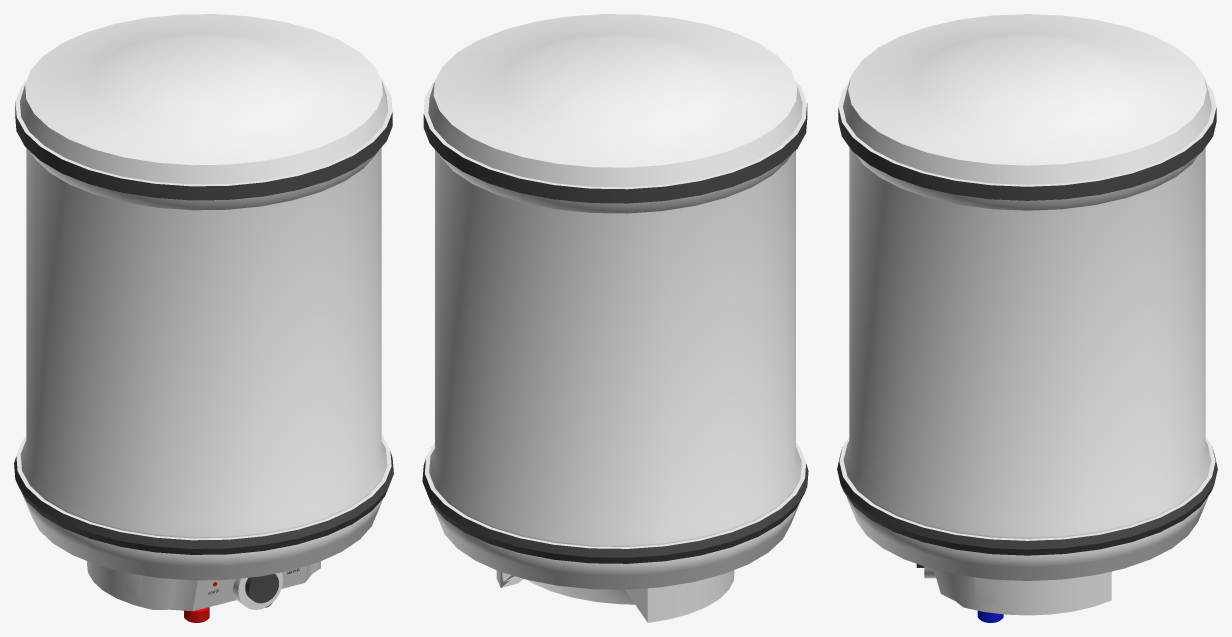
Rendered from geyser.glb.
3 views of the same model, side by side, from view 1: azimuth 30°, elevation 25°; view 2: azimuth 150°, elevation 25°; view 3: azimuth 270°, elevation 25° (orthographic).
Visible parts, largest first — view 1: Cylinder_Material_0, Cylinder_Material.005_0, Cylinder.007_Material_0, Cylinder.002_Material.005_0, Cylinder.003__0; view 2: Cylinder_Material_0, Cylinder_Material.005_0, Cylinder.007_Material_0, Cylinder.001_Material_0; view 3: Cylinder_Material_0, Cylinder_Material.005_0, Cylinder.007_Material_0, Cylinder.001_Material_0.
Part boxes in pixels (left/top/right/bottom): Cylinder_Material_0: left=15, top=14, right=392, bottom=580; Cylinder_Material.005_0: left=14, top=102, right=393, bottom=554; Cylinder.007_Material_0: left=87, top=561, right=320, bottom=611; Cylinder.002_Material.005_0: left=245, top=574, right=278, bottom=603; Cylinder.003__0: left=233, top=572, right=282, bottom=609; Cylinder_Material_0: left=424, top=14, right=806, bottom=589; Cylinder_Material.005_0: left=422, top=103, right=808, bottom=563; Cylinder.007_Material_0: left=496, top=570, right=734, bottom=622; Cylinder.001_Material_0: left=497, top=570, right=733, bottom=612; Cylinder_Material_0: left=838, top=14, right=1216, bottom=580; Cylinder_Material.005_0: left=837, top=107, right=1217, bottom=555; Cylinder.007_Material_0: left=933, top=569, right=1111, bottom=615; Cylinder.001_Material_0: left=974, top=571, right=1112, bottom=604.
Bounding box in the file's own units: 172 × 264 × 172.
2 materials, 2 textured.
